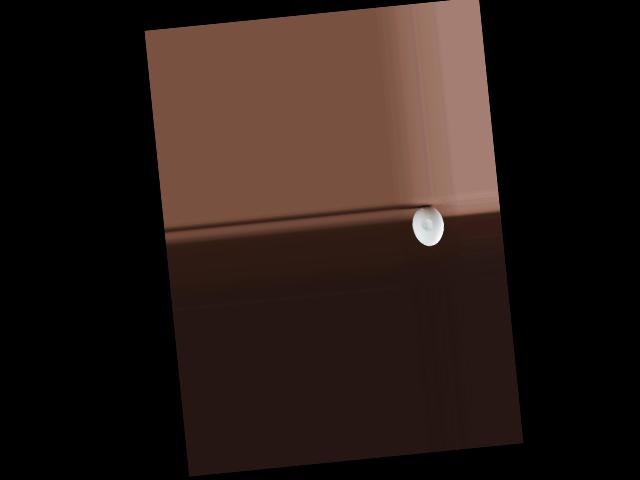egg: (410, 204, 445, 247)
